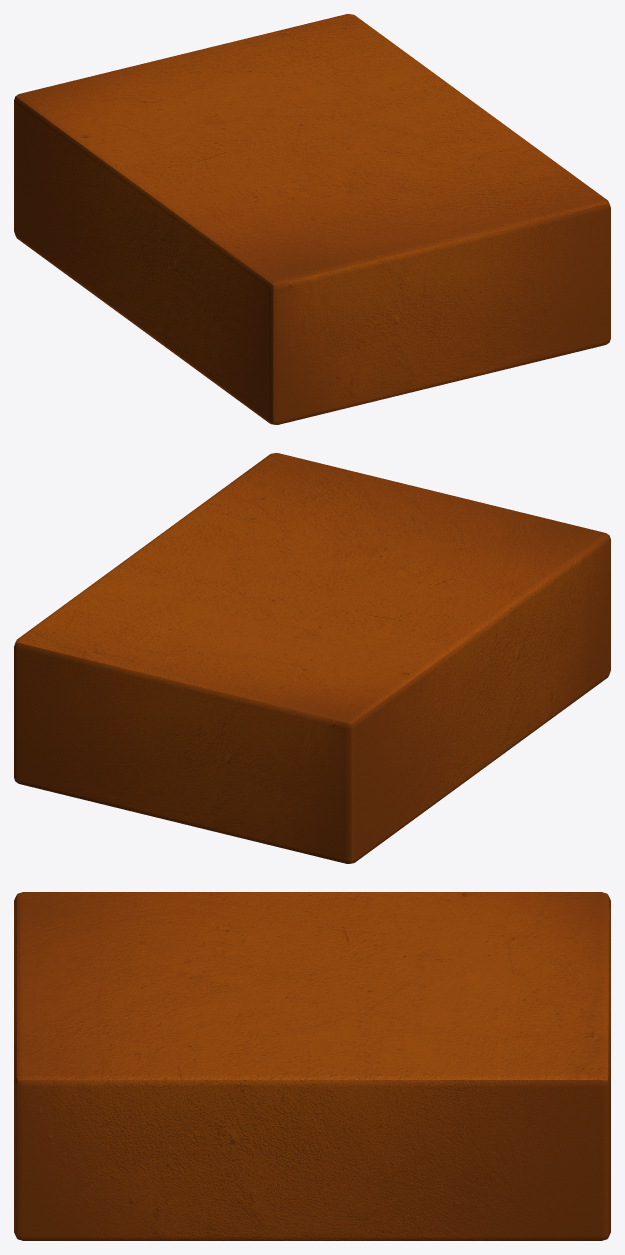
File: Rock_01.fbx
3 renders of one model, top to bottom at view 1: azimuth 30°, elevation 25°; view 2: azimuth 150°, elevation 25°; view 3: azimuth 270°, elevation 25°, orthographic. The views are drawn at different scales.
Parts seen in each view (by area): view 1: pCube153; view 2: pCube153; view 3: pCube153.
Part boxes in pixels (left/top/right/bottom): pCube153: left=14, top=14, right=610, bottom=424; pCube153: left=14, top=453, right=610, bottom=863; pCube153: left=14, top=892, right=610, bottom=1240.
Size of the model in its own units: 7.86 by 3.19 by 10.42.
